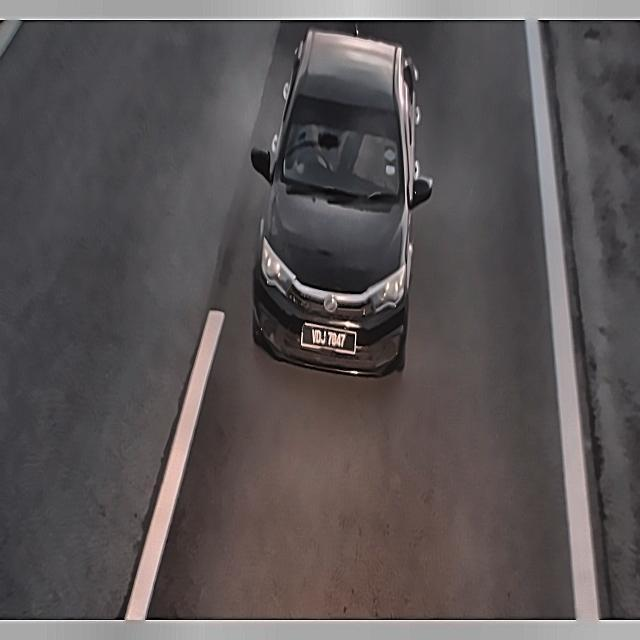car: (298, 315, 361, 359)
